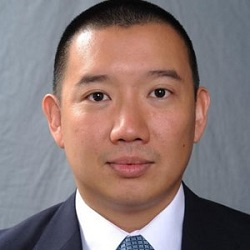unmask: (53, 27, 202, 212)
